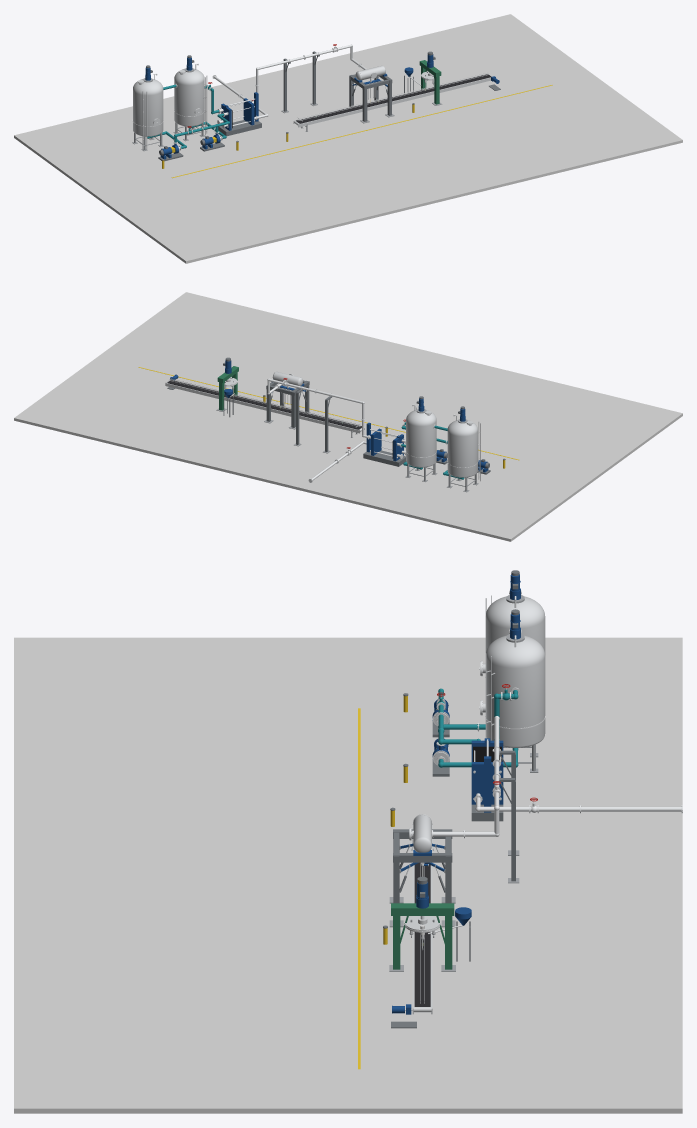
3 views of the same model, one above another, from view 1: azimuth 30°, elevation 25°; view 2: azimuth 150°, elevation 25°; view 3: azimuth 270°, elevation 25° (orthographic). The views are drawn at different scales.
Visible parts, largest first — view 1: Factory_Floor, SiloA_Tank, SiloB_Tank, Belt, Frame_L, SafetyLine_Front; view 2: Factory_Floor, SiloA_Tank, SiloB_Tank, Belt, Frame_R; view 3: Factory_Floor, SiloB_Tank, SiloA_Tank, Belt, Raw_In_pipe1, SafetyLine_Front.
Boxes of the visible parts, x1=… form: Factory_Floor: x1=14, y1=14, x2=682, y2=263; SiloA_Tank: x1=133, y1=79, x2=163, y2=136; SiloB_Tank: x1=174, y1=68, x2=204, y2=126; Belt: x1=296, y1=74, x2=491, y2=123; Frame_L: x1=298, y1=77, x2=490, y2=127; SafetyLine_Front: x1=171, y1=85, x2=552, y2=178; Factory_Floor: x1=14, y1=292, x2=682, y2=541; SiloA_Tank: x1=447, y1=420, x2=477, y2=477; SiloB_Tank: x1=406, y1=409, x2=436, y2=467; Belt: x1=167, y1=380, x2=361, y2=429; Frame_R: x1=165, y1=383, x2=360, y2=433; Factory_Floor: x1=14, y1=637, x2=682, y2=1113; SiloB_Tank: x1=486, y1=635, x2=545, y2=747; SiloA_Tank: x1=485, y1=596, x2=545, y2=654; Belt: x1=414, y1=862, x2=430, y2=1006; Raw_In_pipe1: x1=479, y1=806, x2=681, y2=811; SafetyLine_Front: x1=358, y1=708, x2=360, y2=1069.
Bounding box in the file's own units: 60 × 9.34 × 36.02.
